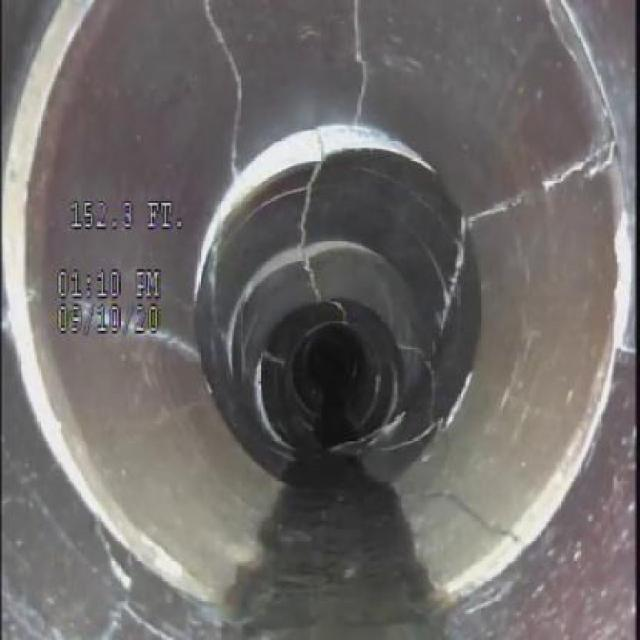Buckling: (203, 114, 446, 251)
Crack: (483, 140, 611, 222), (191, 8, 246, 177), (325, 8, 397, 129)
